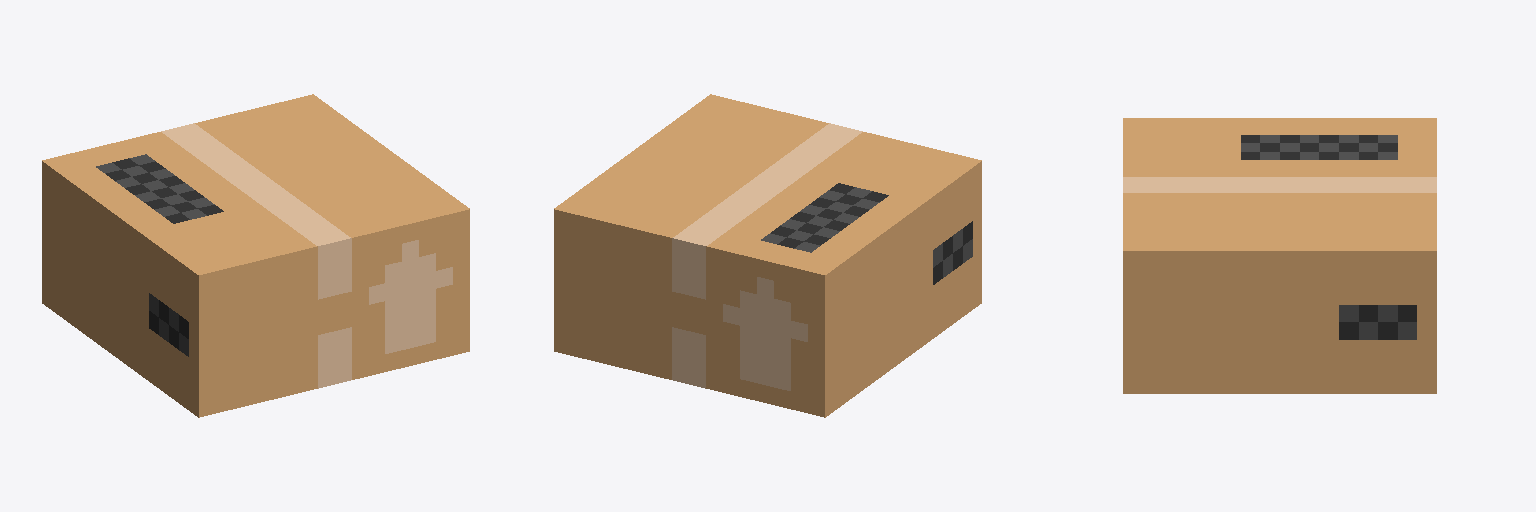
3 renders of one model, left to right at view 1: azimuth 30°, elevation 25°; view 2: azimuth 150°, elevation 25°; view 3: azimuth 270°, elevation 25°, orthographic.
Parts seen in each view (by area): view 1: cuboid; view 2: cuboid; view 3: cuboid.
Part boxes in pixels (x1,y1,x2,y2): cuboid: (42, 94, 469, 417); cuboid: (554, 94, 981, 417); cuboid: (1123, 118, 1436, 393).
Bounding box in the file's own units: 1 × 0.5 × 1.
1 materials, 1 textured.